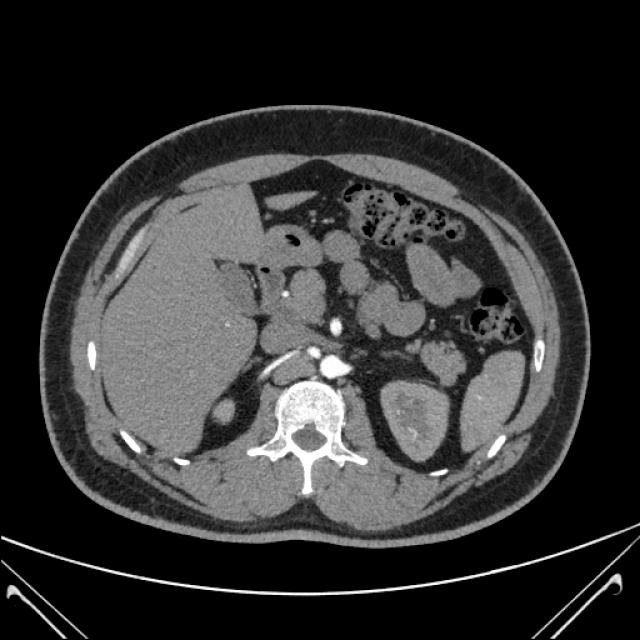Kidney: (17, 80, 594, 540)
